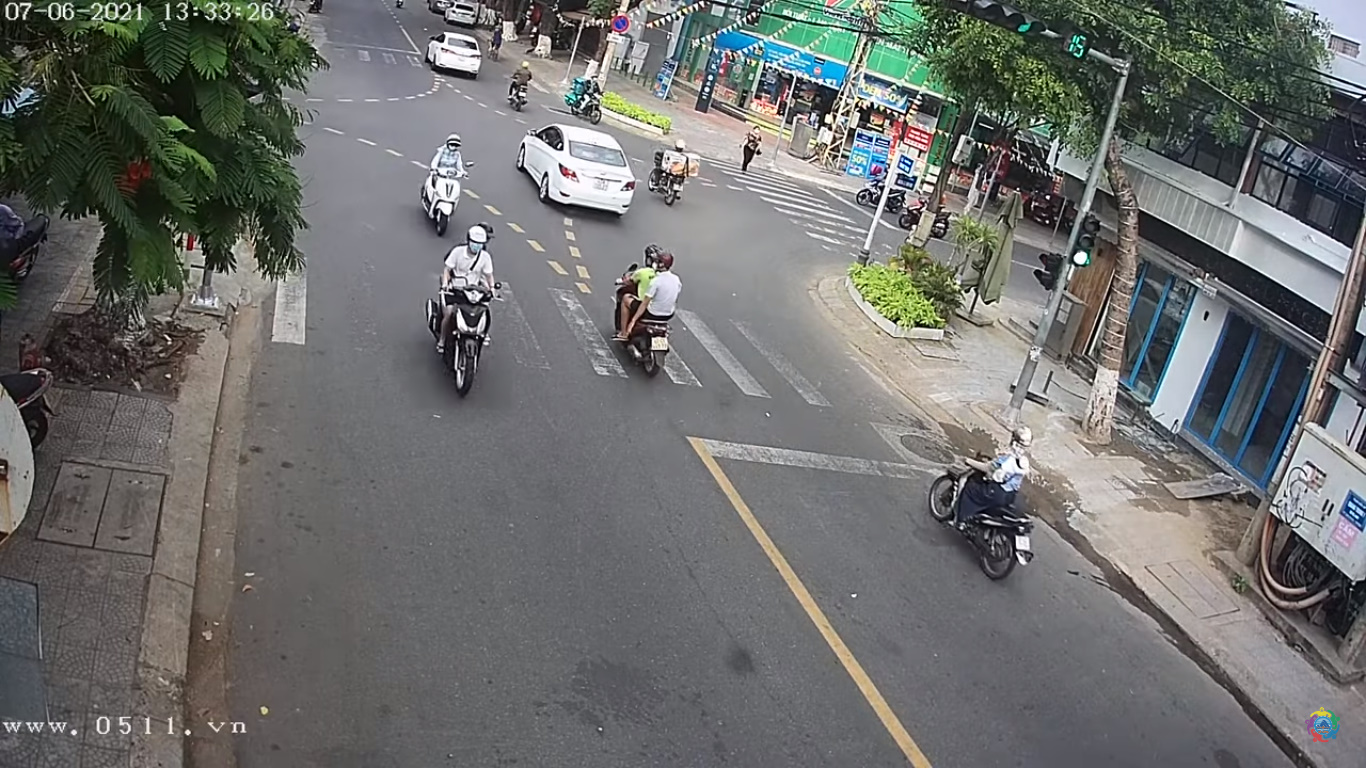motorbike: (427, 237, 504, 397), (419, 144, 470, 238)
